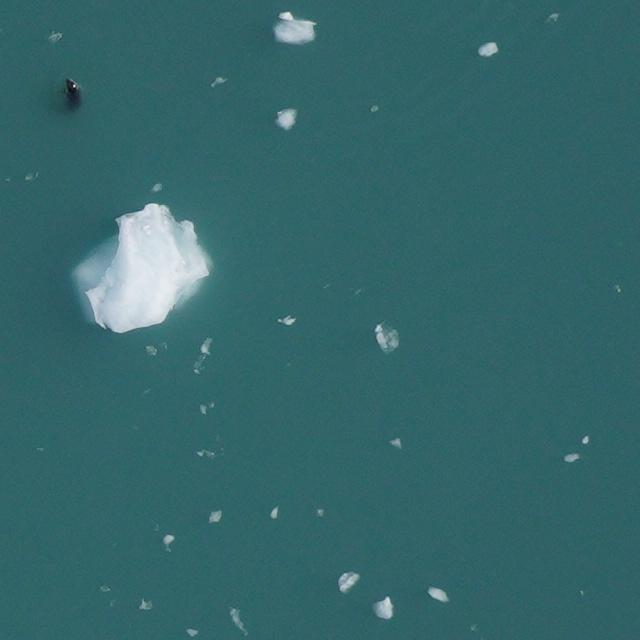seal: (65, 79, 81, 112)
